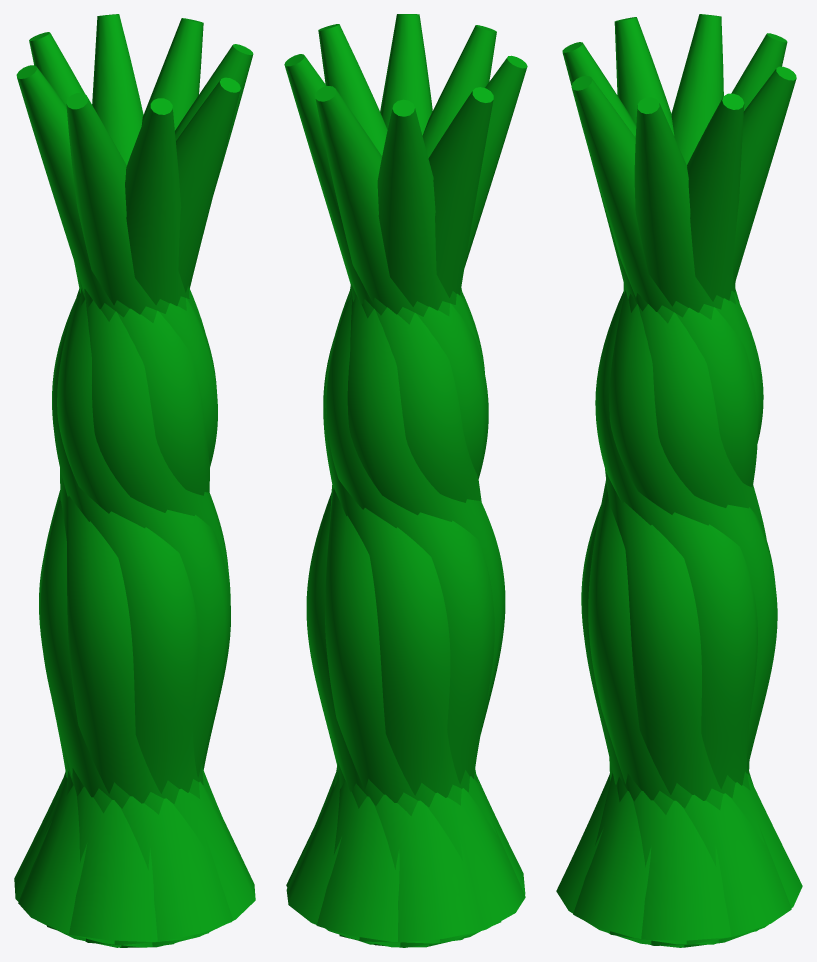
File: bigleaf.fbx
3 views of the same model, side by side, from view 1: azimuth 30°, elevation 25°; view 2: azimuth 150°, elevation 25°; view 3: azimuth 270°, elevation 25° (orthographic).
Parts seen in each view (by area): view 1: NURBSパス; view 2: NURBSパス; view 3: NURBSパス.
Part boxes in pixels (bbox=[...]): NURBSパス: bbox=[14, 14, 255, 947]; NURBSパス: bbox=[284, 14, 527, 947]; NURBSパス: bbox=[556, 14, 802, 947].
Bounding box in the file's own units: 1881 × 7325 × 1881.
